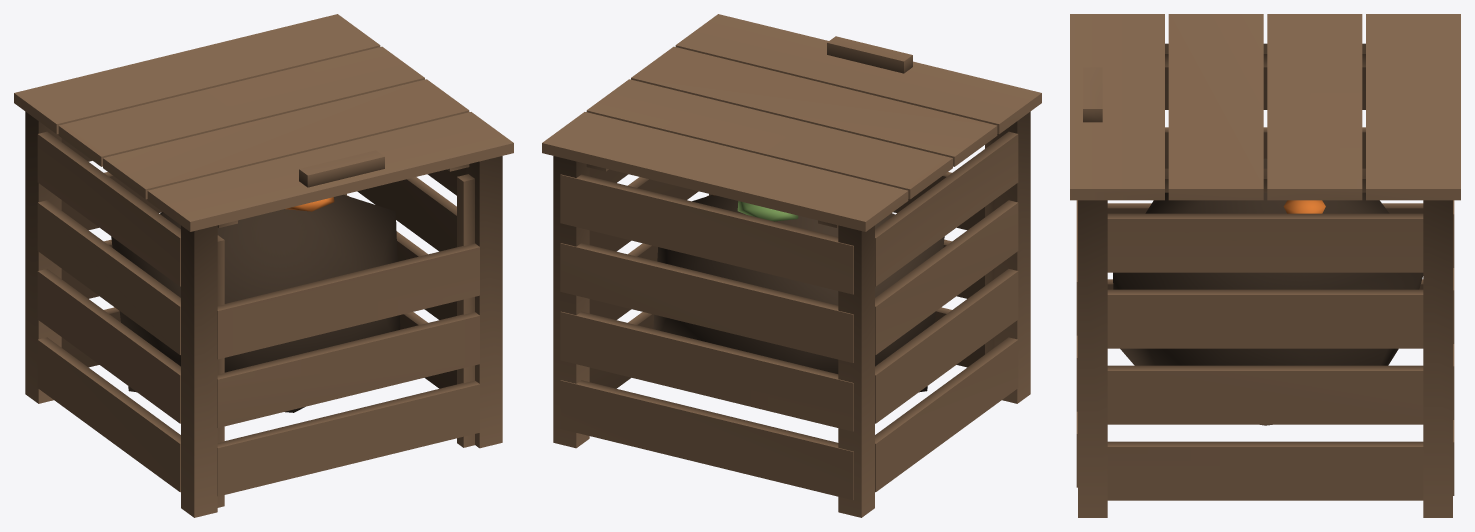
File: compostBin.far.glb
3 views of the same model, side by side, from view 1: azimuth 30°, elevation 25°; view 2: azimuth 150°, elevation 25°; view 3: azimuth 270°, elevation 25° (orthographic). The views are drawn at different scales.
Parts seen in each view (by area): view 1: compostBin; view 2: compostBin; view 3: compostBin.
Boxes of the visible parts, x1,y1,x2,y2 form: compostBin: (14, 14, 513, 517); compostBin: (542, 14, 1041, 517); compostBin: (1070, 14, 1460, 517).
Size of the model in its own units: 0.84 by 0.775 by 0.792.
